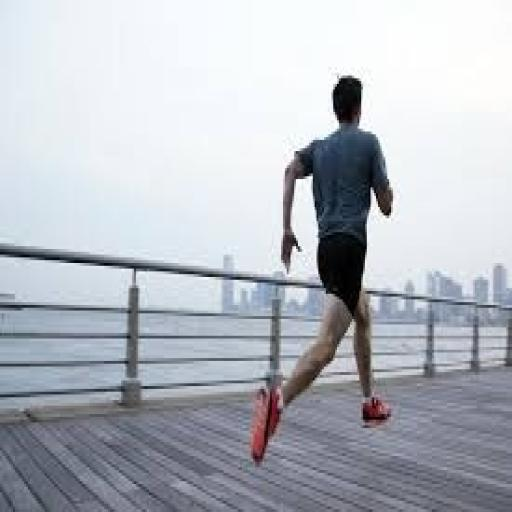running: (246, 70, 396, 467)
